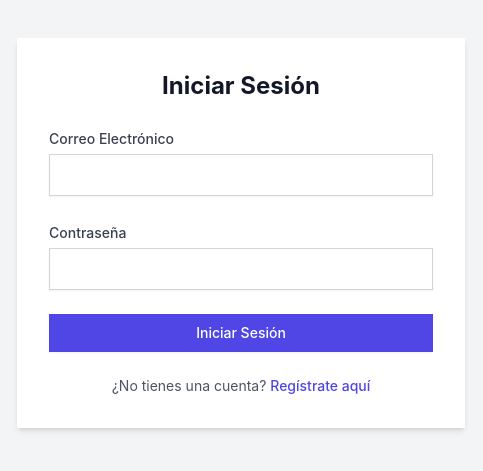
Página de Inicio de Sesión (LoginPage) › debería mostrar un mensaje de error si las credenciales son incorrectas
// Simulamos la entrada y el envío del formulario
Type "usuario@invalido.com" into the field labelled "Correo Electrónico" at (241, 175), box [49, 154, 433, 196]
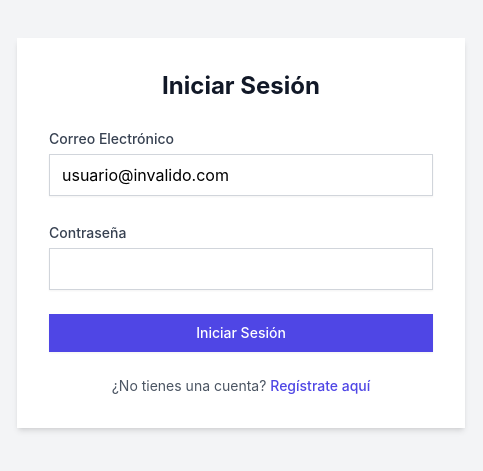
Type "contrasenaInvalida" into the password field labelled "Contraseña" at (241, 269), box [49, 248, 433, 290]
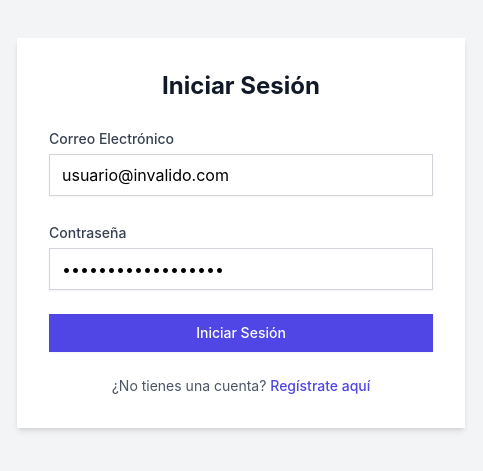
Click the button "Iniciar Sesión" at (241, 333), box [49, 314, 433, 352]
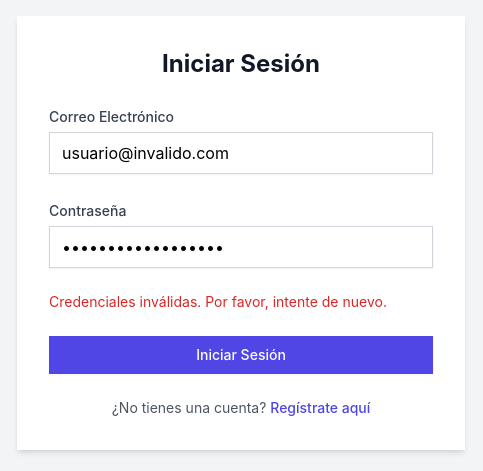
Expected: the button "Iniciar Sesión" is enabled, [49, 336, 433, 374]
Result: the text "Credenciales inválidas. Por favor, intente de nuevo." is shown at [49, 292, 433, 312]
